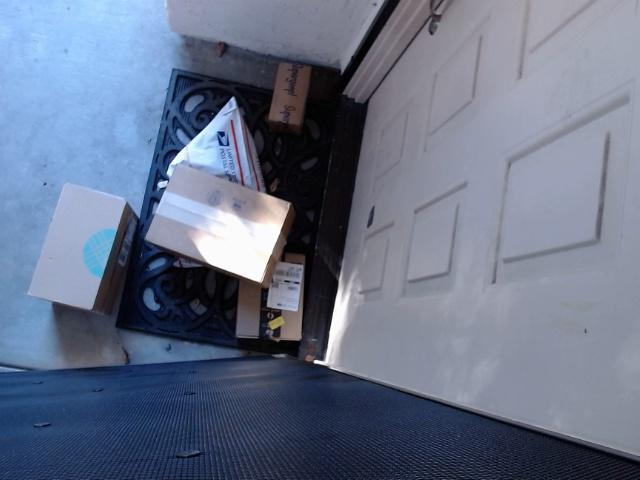box: (23, 177, 139, 338), (147, 167, 286, 298), (224, 243, 317, 349), (251, 46, 332, 132)
plastic_bag: (147, 94, 277, 210)
